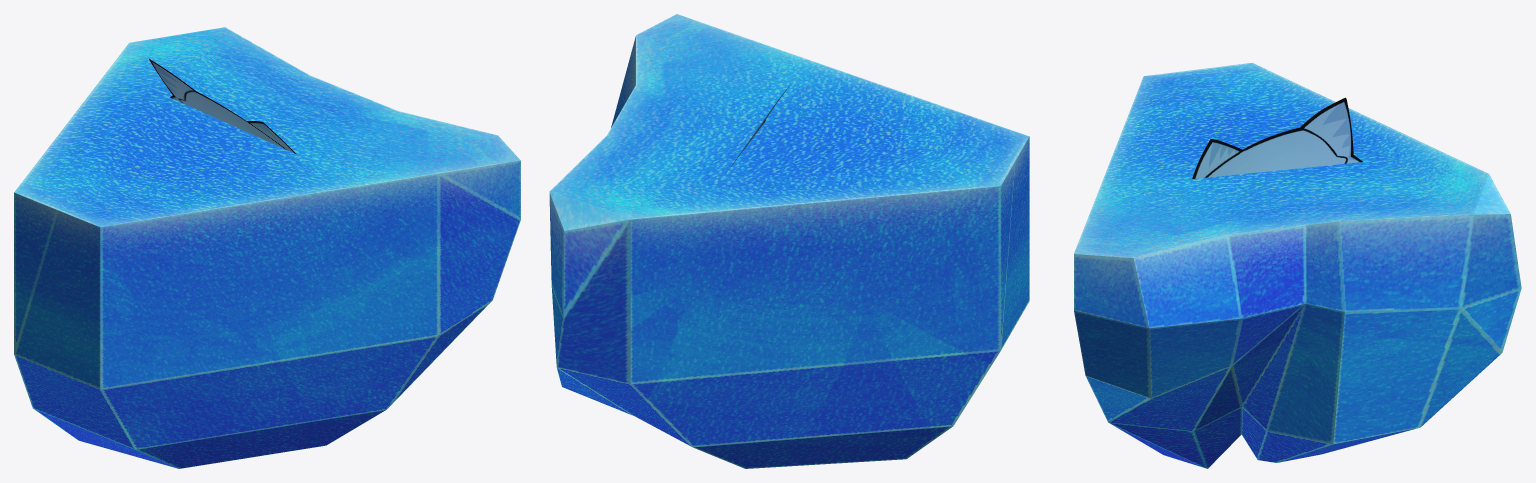
File: pedestal05_OneFish.fbx
The picture shows the model from 3 angles, left to right: view 1: azimuth 30°, elevation 25°; view 2: azimuth 150°, elevation 25°; view 3: azimuth 270°, elevation 25°; orthographic projection. The views are drawn at different scales.
Parts seen in each view (by area): view 1: pedestal05_OneFish; view 2: pedestal05_OneFish; view 3: pedestal05_OneFish.
Boxes of the visible parts, left/top/right/bottom form: pedestal05_OneFish: left=14, top=27, right=520, bottom=468; pedestal05_OneFish: left=549, top=14, right=1029, bottom=468; pedestal05_OneFish: left=1074, top=63, right=1521, bottom=468.
Bounding box in the file's own units: 139 × 126 × 137.
